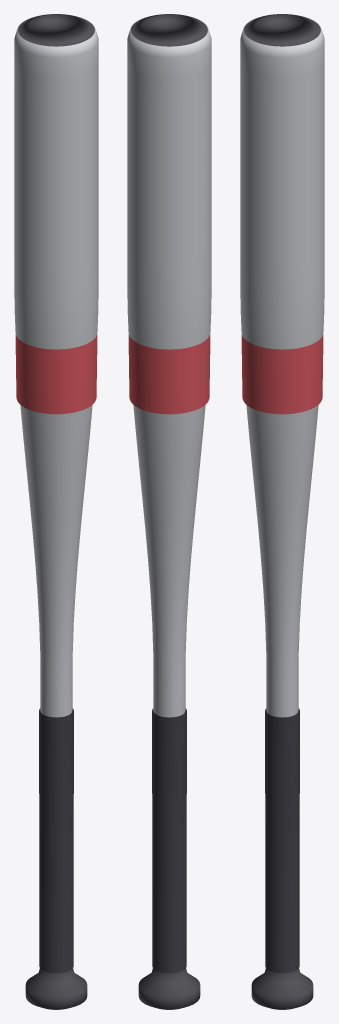
The model's file is metal_bat.glb.
3 renders of one model, left to right at view 1: azimuth 30°, elevation 25°; view 2: azimuth 150°, elevation 25°; view 3: azimuth 330°, elevation 25°, orthographic.
Visible parts, largest first — view 1: Bat; view 2: Bat; view 3: Bat.
Part boxes in pixels (<box>): Bat: <box>14,14,98,1009</box>; Bat: <box>127,14,211,1009</box>; Bat: <box>240,14,324,1009</box>.
Size of the model in its own units: 0.066 by 0.8405 by 0.066.
